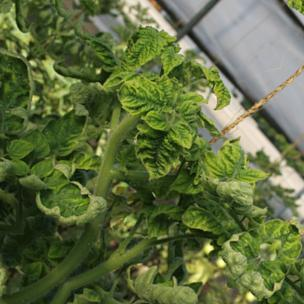Tomato leaf yellow virus: (177, 123, 278, 222), (25, 154, 118, 250), (112, 58, 203, 151), (0, 58, 64, 145), (175, 188, 240, 256)
